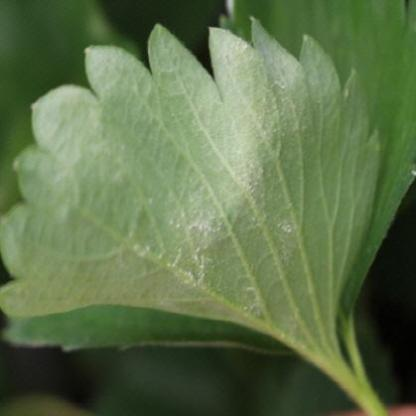Strawberry_Powdery_Mildew_Leaf: (0, 15, 382, 388)
